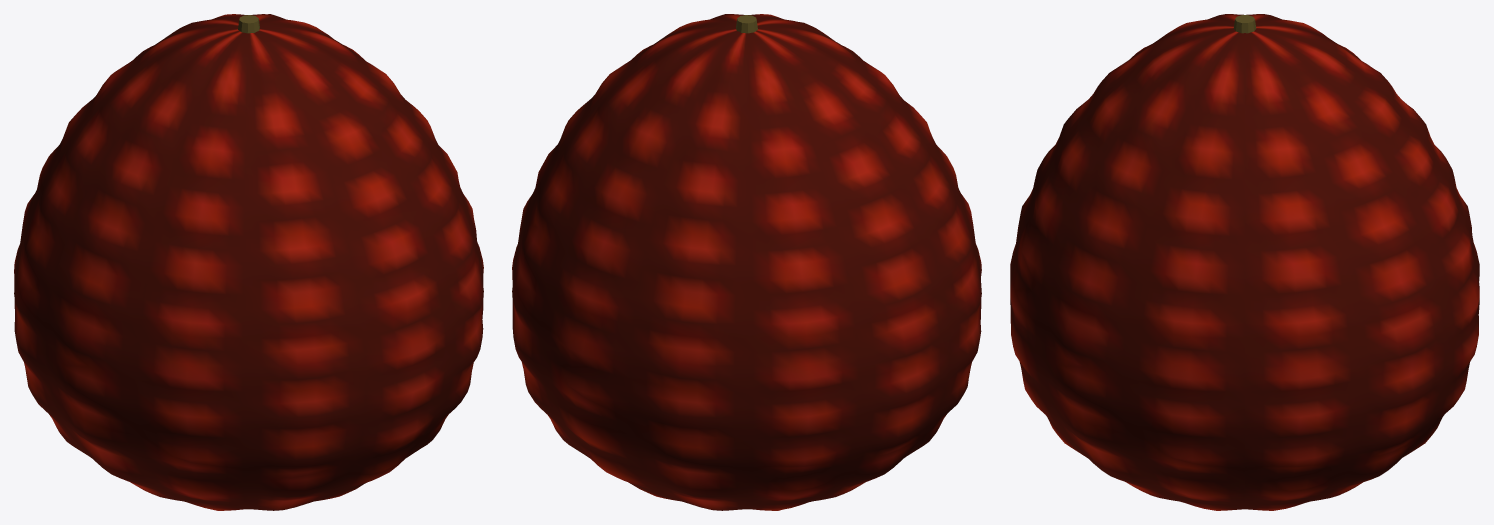
The model's file is coeur-de-boeuf.glb.
3 views of the same model, side by side, from view 1: azimuth 30°, elevation 25°; view 2: azimuth 150°, elevation 25°; view 3: azimuth 270°, elevation 25° (orthographic).
Visible parts, largest first — view 1: moitie_B_peau, entier_peau, moitie_A_peau; view 2: moitie_A_peau, entier_peau, moitie_B_peau; view 3: entier_peau, moitie_A_peau, moitie_B_peau.
Part boxes in pixels (<box>): moitie_B_peau: <box>46,25,483,510</box>; entier_peau: <box>14,14,483,510</box>; moitie_A_peau: <box>14,14,351,453</box>; moitie_A_peau: <box>512,25,949,510</box>; entier_peau: <box>512,14,981,510</box>; moitie_B_peau: <box>646,14,981,457</box>; entier_peau: <box>1010,14,1479,510</box>; moitie_A_peau: <box>1245,14,1479,510</box>; moitie_B_peau: <box>1010,14,1244,510</box>.
Bounding box in the file's own units: 1.88 × 2.04 × 1.88.
